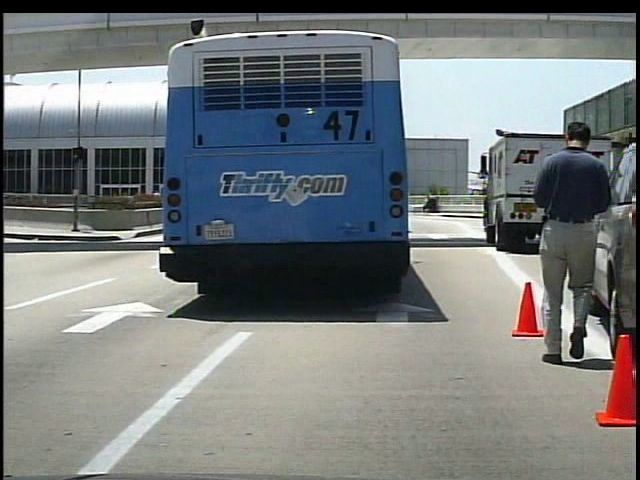person: (528, 118, 611, 369)
